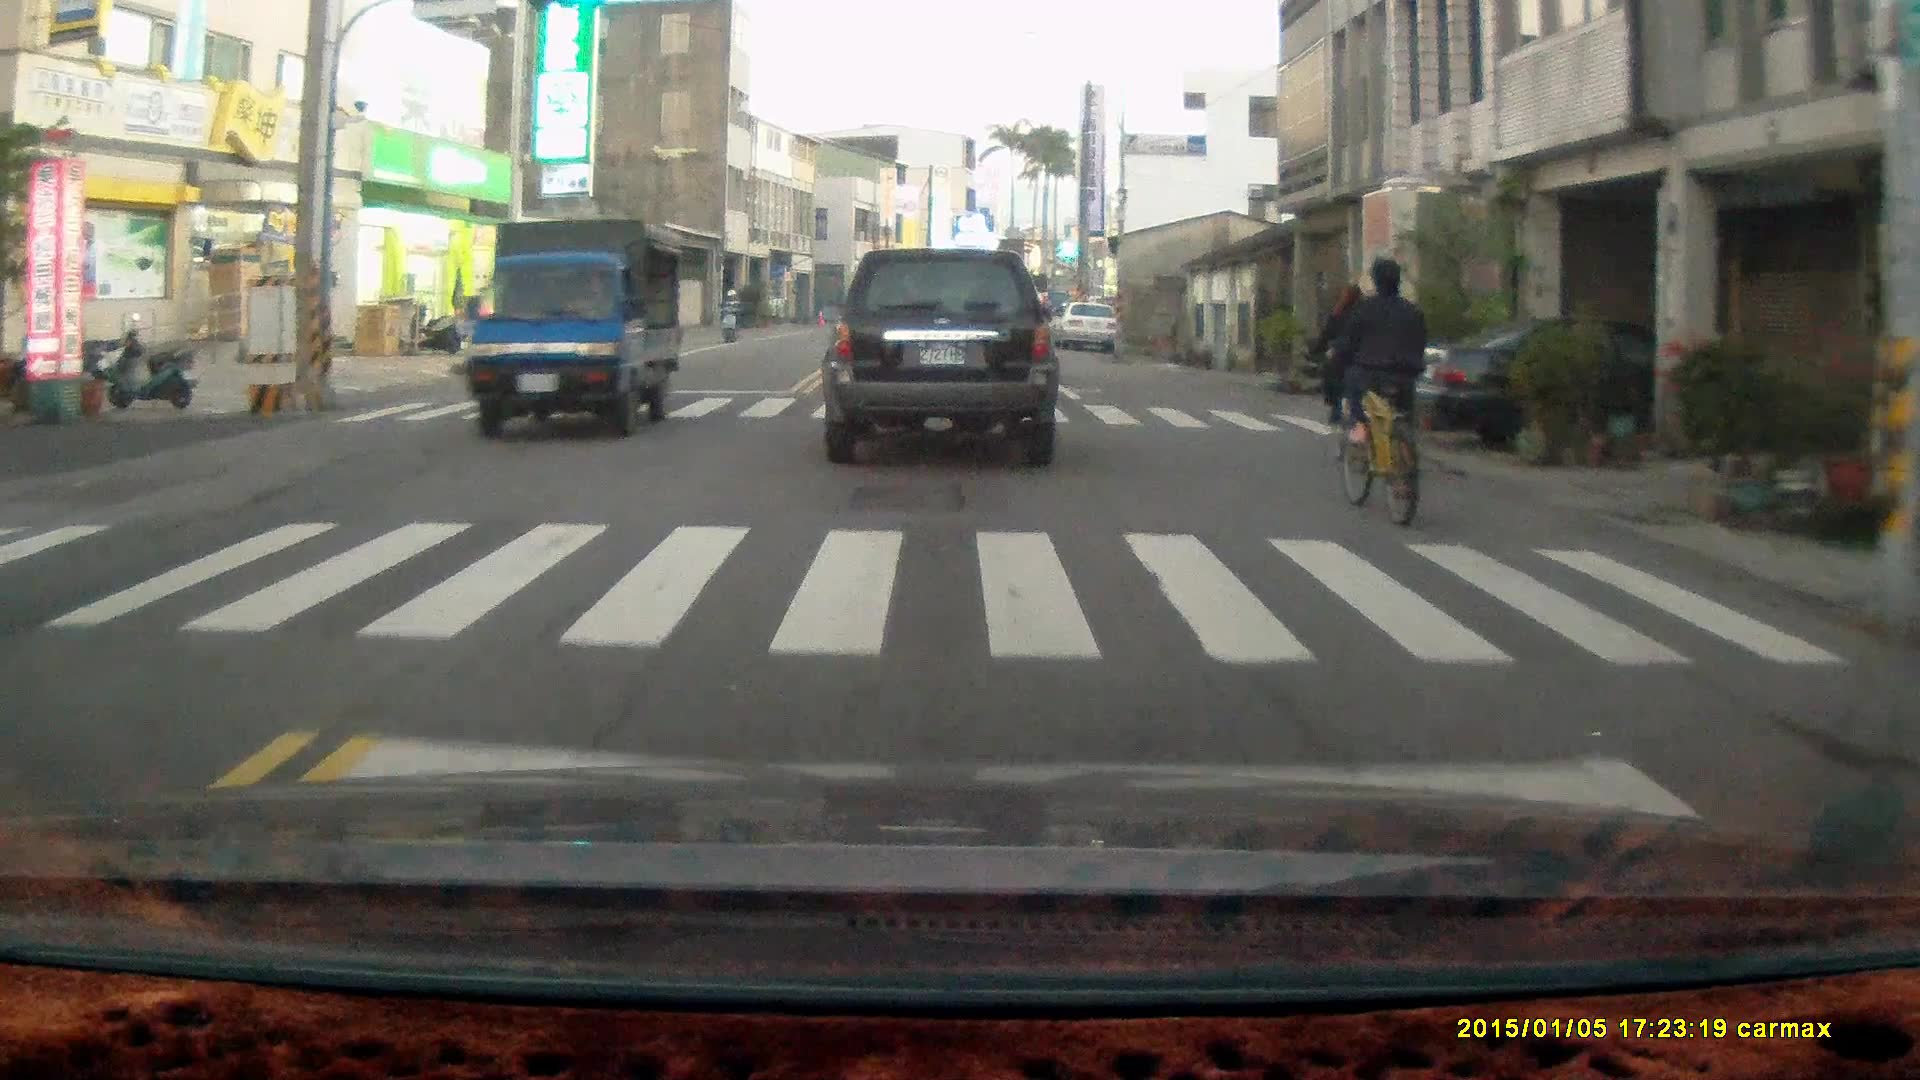rider: (1327, 257, 1430, 529), (1313, 277, 1382, 467), (717, 287, 742, 345)
vehicle: (1411, 318, 1809, 464), (820, 248, 1062, 470), (457, 216, 695, 440), (1057, 304, 1121, 355)
